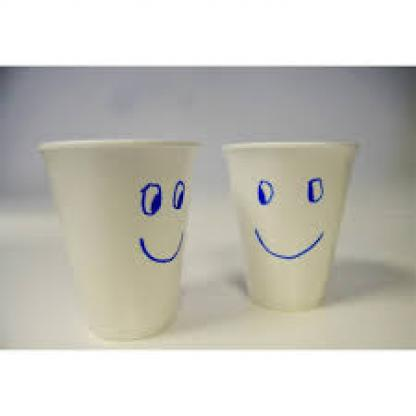paper: (37, 139, 198, 338), (220, 139, 355, 305)
